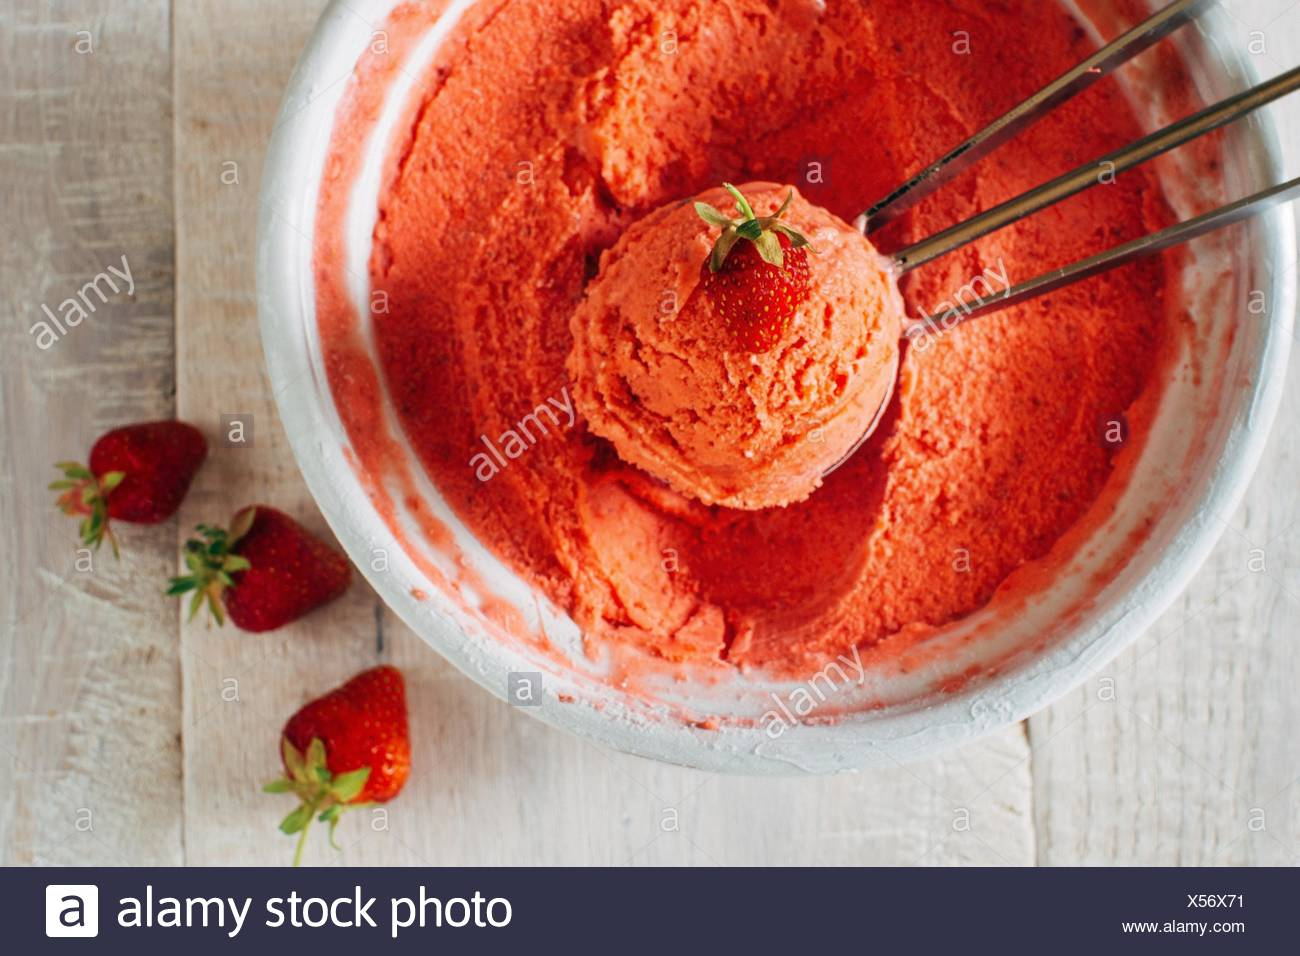ice-cream: (381, 1, 1167, 675), (573, 184, 891, 504)
